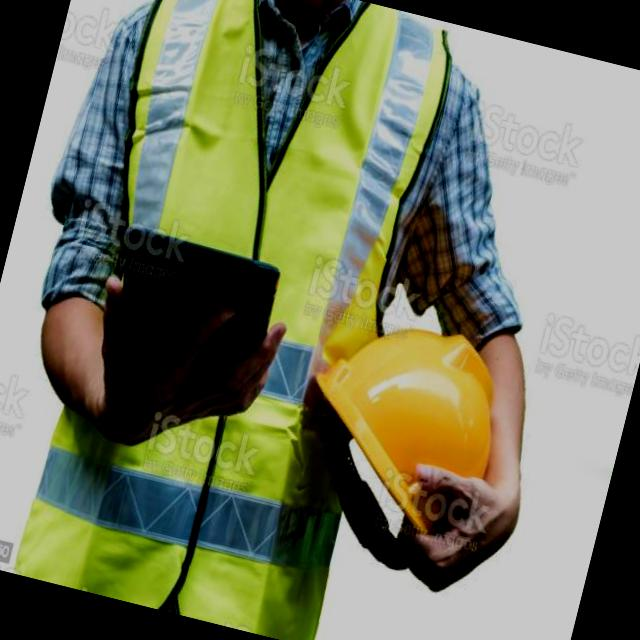vest: (0, 0, 465, 640)
